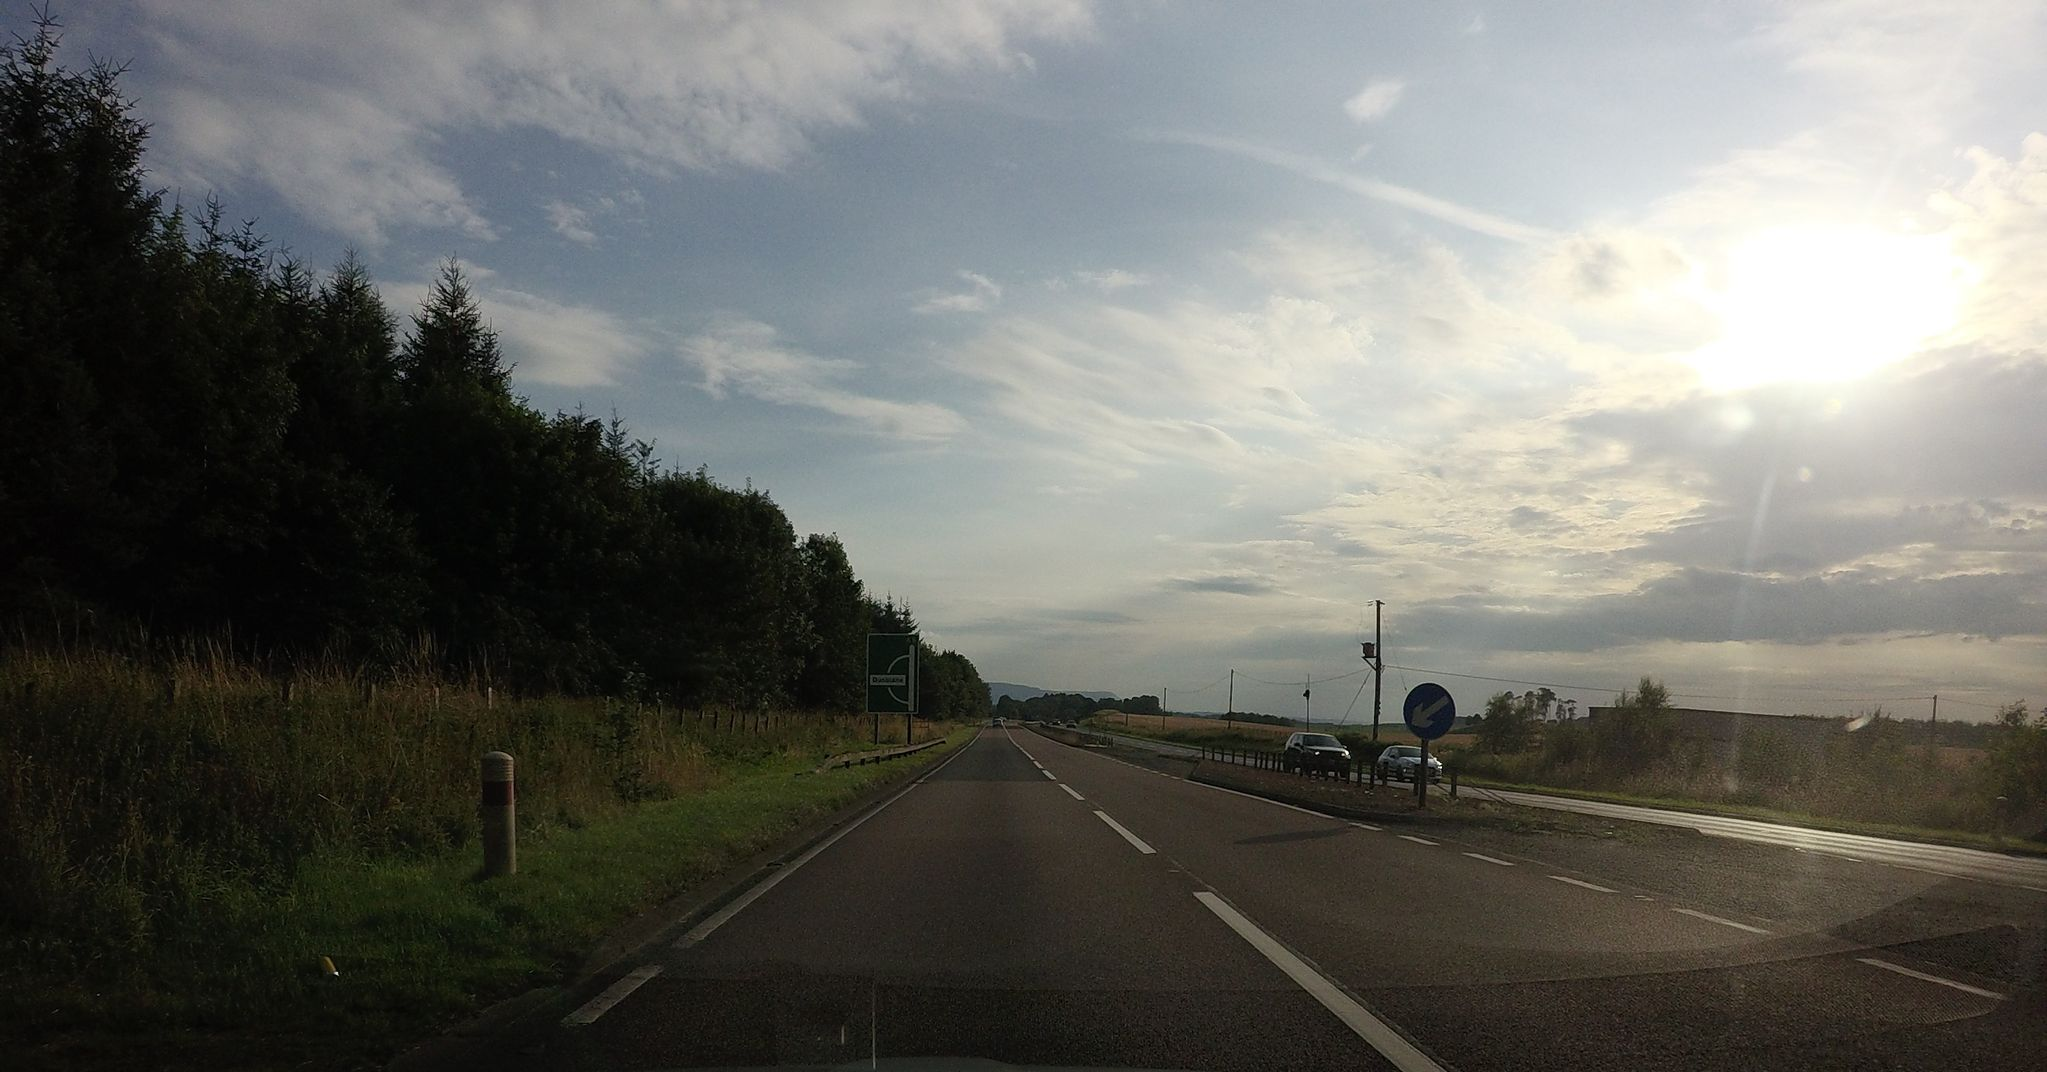car: (1281, 731, 1351, 780), (1375, 744, 1443, 785)
